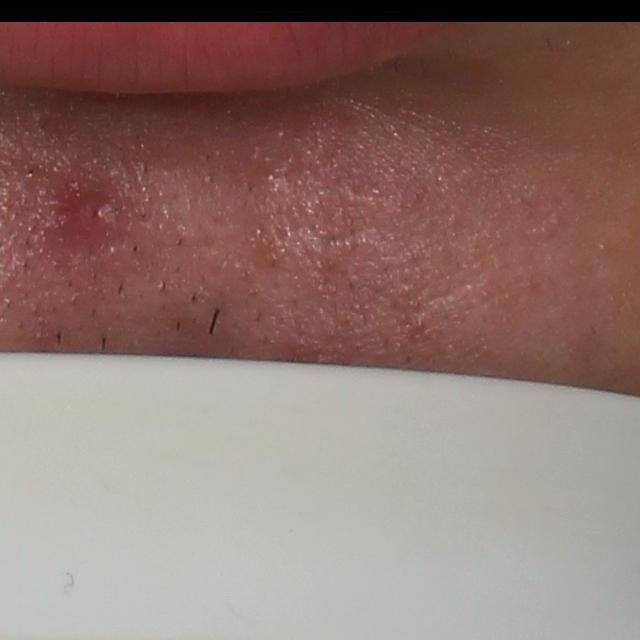papule: (71, 192, 124, 244)
